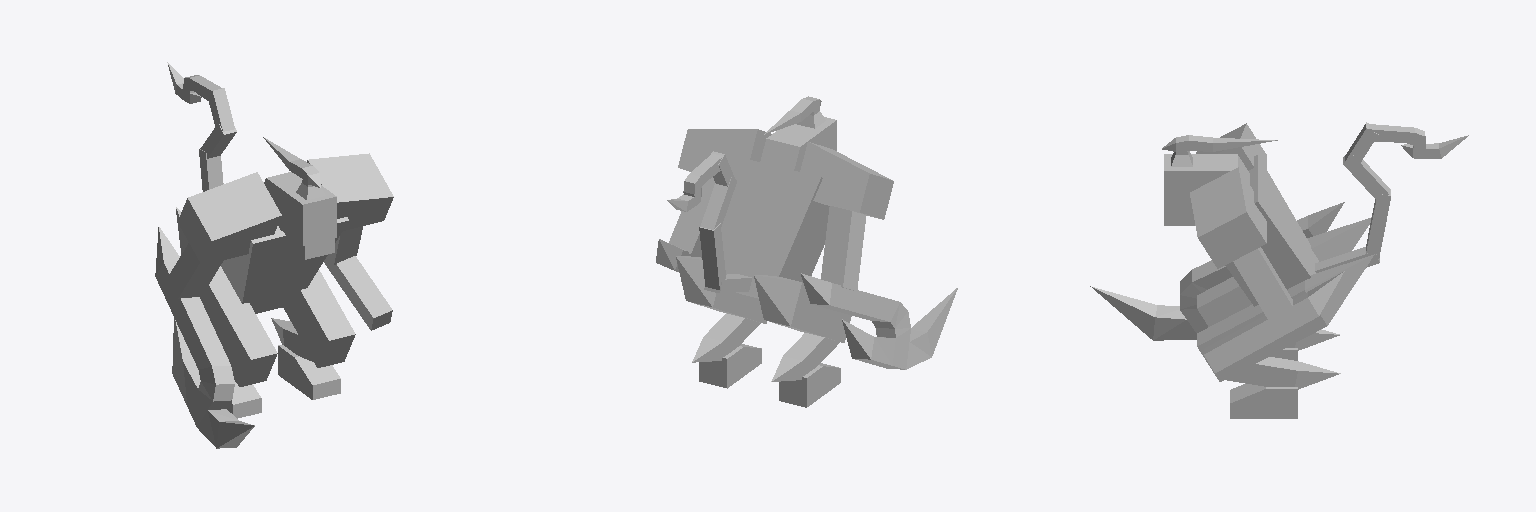
Rendered from clink.obj.
The picture shows the model from 3 angles: view 1: azimuth 30°, elevation 25°; view 2: azimuth 150°, elevation 25°; view 3: azimuth 270°, elevation 25°; orthographic projection.
Visible parts, largest first — view 1: Body, RightArm, LeftLeg, RightLeg, Head, LeftArm, Tail05, Tail04, Tail02, Mouth, Tail03; view 2: Body, RightArm, RightLeg, LeftLeg, Head, LeftArm, Tail02, Tail05, Tail03, Tail01; view 3: Body, LeftLeg, LeftArm, RightArm, Head, RightLeg, Tail05, Tail02, Tail03, Tail01, Tail04.
Part boxes in pixels (x1,y1,x2,y2): Body: (178, 153, 393, 313); RightArm: (155, 227, 254, 448); LeftLeg: (271, 270, 355, 399); RightLeg: (176, 207, 277, 418); Head: (263, 137, 336, 245); LeftArm: (324, 226, 392, 330); Tail05: (167, 62, 221, 103); Tail04: (207, 88, 234, 131); Tail02: (199, 149, 223, 191); Mouth: (283, 234, 334, 259); Tail03: (200, 123, 236, 158); Body: (678, 129, 893, 298); RightArm: (801, 206, 957, 369); RightLeg: (754, 275, 851, 407); LeftLeg: (676, 256, 766, 388); Head: (760, 96, 836, 171); LeftArm: (656, 177, 714, 271); Tail02: (699, 223, 725, 289); Tail05: (667, 154, 722, 211); Tail03: (700, 177, 736, 229); Tail01: (704, 274, 751, 293); Body: (1190, 123, 1318, 306); LeftLeg: (1197, 254, 1374, 418); LeftArm: (1204, 247, 1344, 372); RightArm: (1090, 202, 1344, 340); Head: (1162, 135, 1277, 211); RightLeg: (1197, 217, 1371, 360); Tail05: (1369, 124, 1468, 158); Tail02: (1366, 189, 1390, 258); Tail03: (1343, 155, 1389, 198); Tail01: (1315, 247, 1379, 272); Tail04: (1345, 122, 1378, 162).
Size of the model in its own units: 1.67 by 2.09 by 2.7.